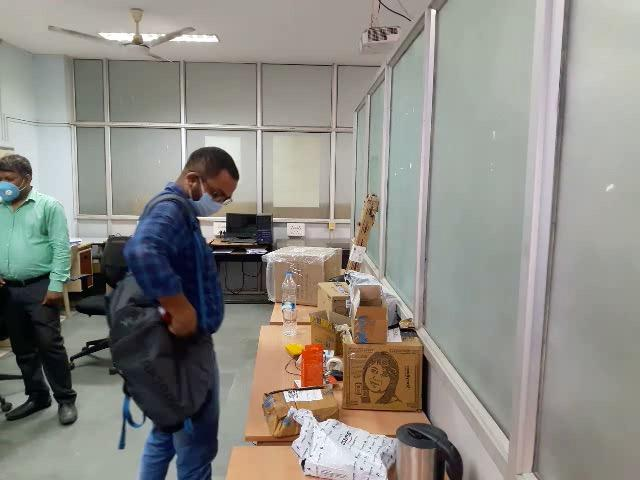shoplifting: (86, 255, 233, 480)
